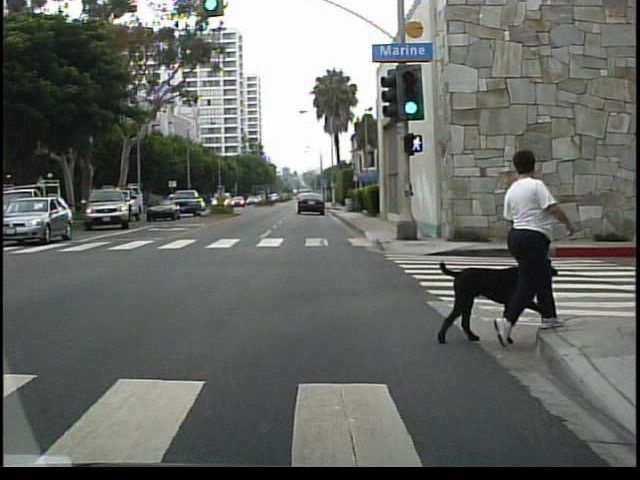person: (490, 144, 564, 342)
